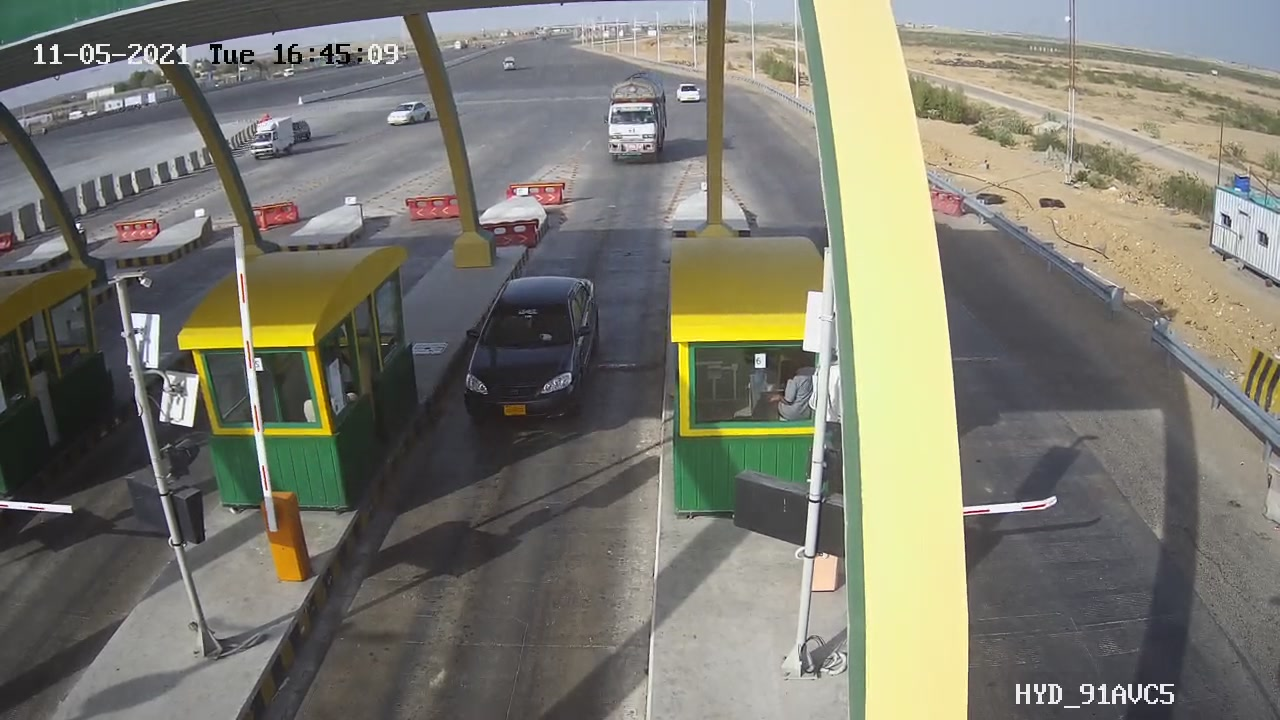F1: (437, 259, 619, 456)
